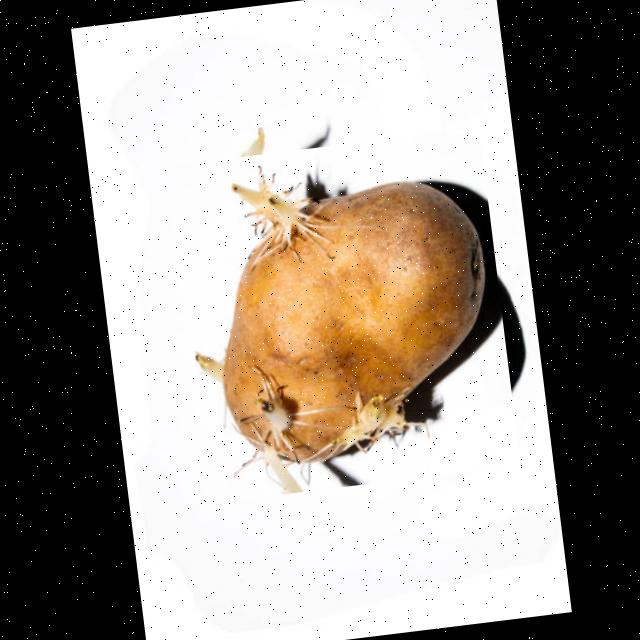Sprouted potato: (148, 128, 519, 506)
